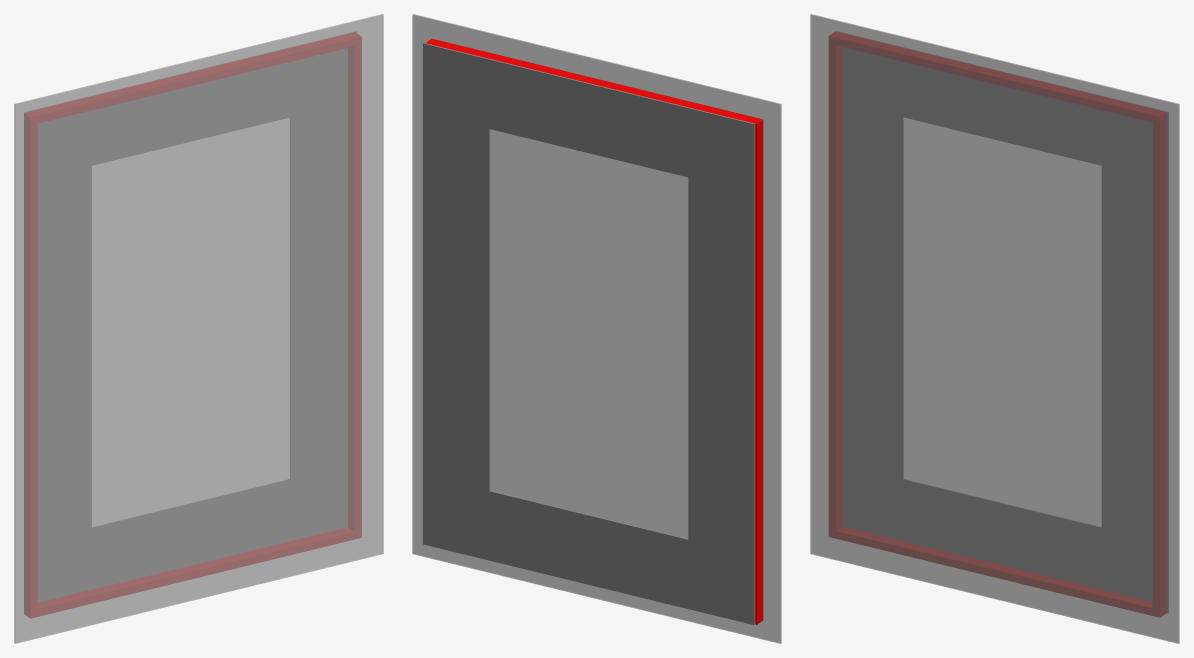
Rendered from mirror.glb.
3 renders of one model, left to right at view 1: azimuth 30°, elevation 25°; view 2: azimuth 150°, elevation 25°; view 3: azimuth 330°, elevation 25°, orthographic.
Parts seen in each view (by area): view 1: Pieza7 b, Pieza4 b, Pieza3b; view 2: Pieza7 b, Pieza4 b, Pieza3b; view 3: Pieza7 b, Pieza4 b, Pieza3b.
Part boxes in pixels (x1=…): Pieza7 b: x1=14, y1=14, x2=383, y2=643; Pieza4 b: x1=25, y1=31, x2=356, y2=602; Pieza3b: x1=24, y1=32, x2=361, y2=618; Pieza7 b: x1=412, y1=14, x2=781, y2=643; Pieza4 b: x1=423, y1=43, x2=755, y2=625; Pieza3b: x1=426, y1=38, x2=763, y2=624; Pieza7 b: x1=810, y1=14, x2=1179, y2=643; Pieza4 b: x1=837, y1=31, x2=1168, y2=612; Pieza3b: x1=829, y1=32, x2=1166, y2=617.
Size of the model in its own units: 0.5 by 0.7 by 0.0207.
